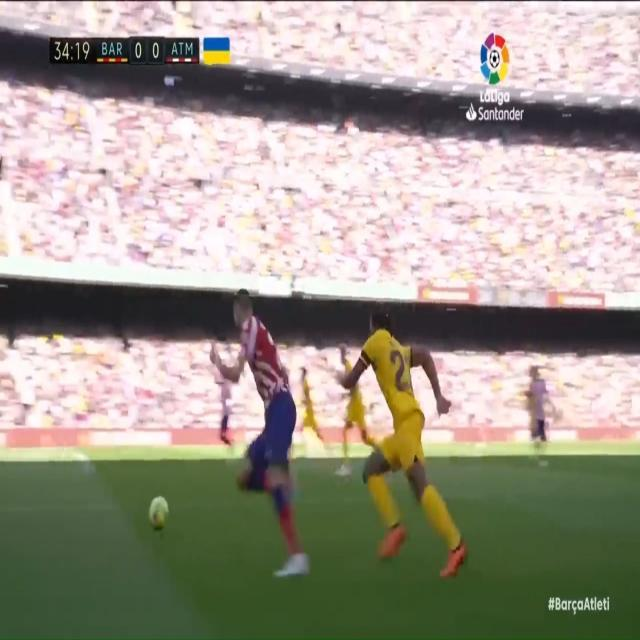ball: (143, 483, 173, 538)
player: (326, 287, 474, 583), (206, 265, 315, 593), (324, 325, 365, 484), (518, 346, 556, 472)
